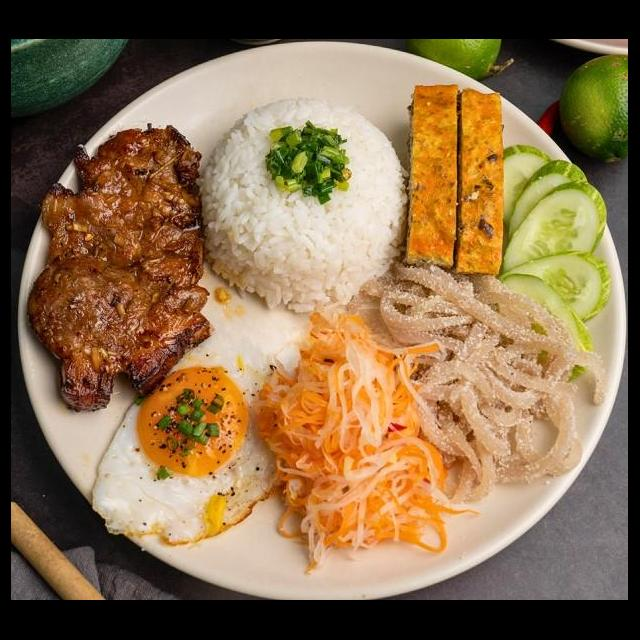bi: (412, 314, 608, 508), (344, 256, 576, 362)
cha: (401, 80, 508, 280)
com: (190, 93, 413, 320)
com suon bi cha trung: (16, 71, 628, 595)
dua chua: (248, 308, 452, 578)
suon: (26, 122, 218, 418)
trung: (89, 327, 292, 550)
